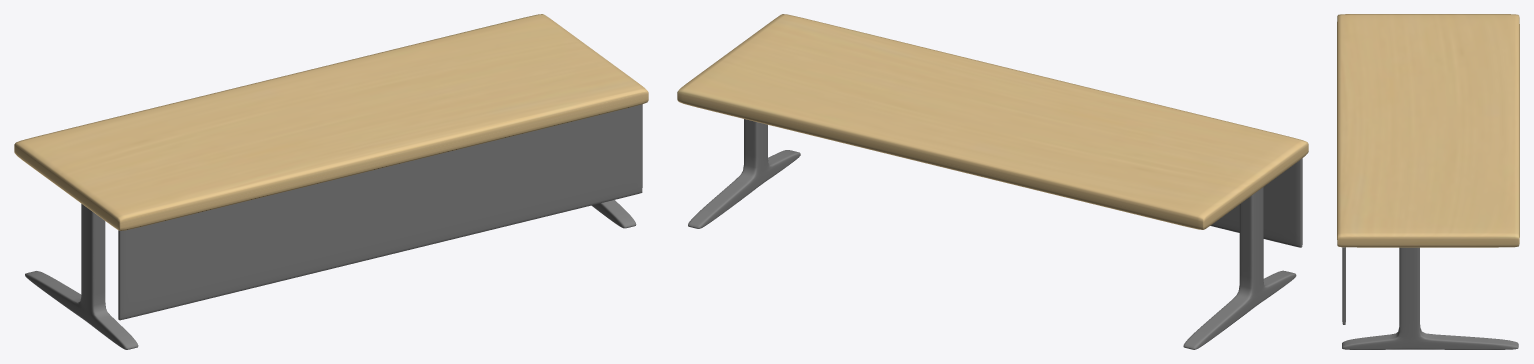
Rendered from Desk.fbx.
3 renders of one model, left to right at view 1: azimuth 30°, elevation 25°; view 2: azimuth 150°, elevation 25°; view 3: azimuth 270°, elevation 25°, orthographic. The views are drawn at different scales.
Parts seen in each view (by area): view 1: Desk; view 2: Desk; view 3: Desk.
Boxes of the visible parts, x1,y1,x2,y2 form: Desk: (14, 14, 648, 349); Desk: (677, 14, 1308, 349); Desk: (1337, 14, 1519, 349).
Size of the model in its own units: 3450 by 858 by 1197.
